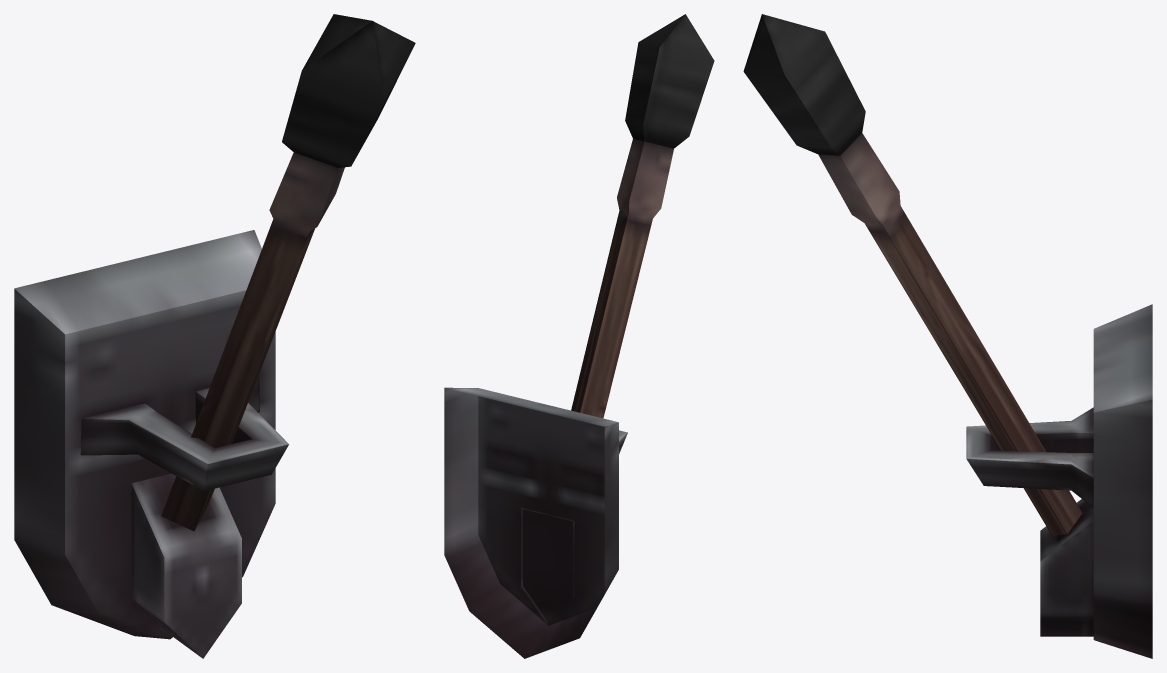
The model's file is huoba_08.FBX.
The picture shows the model from 3 angles, left to right: view 1: azimuth 30°, elevation 25°; view 2: azimuth 150°, elevation 25°; view 3: azimuth 270°, elevation 25°; orthographic projection. The views are drawn at different scales.
Parts seen in each view (by area): view 1: huoba_08; view 2: huoba_08; view 3: huoba_08.
Boxes of the visible parts, x1,y1,x2,y2 form: huoba_08: (14, 14, 415, 658); huoba_08: (444, 14, 714, 658); huoba_08: (743, 14, 1152, 658).
Size of the model in its own units: 41.36 by 130 by 74.89.
